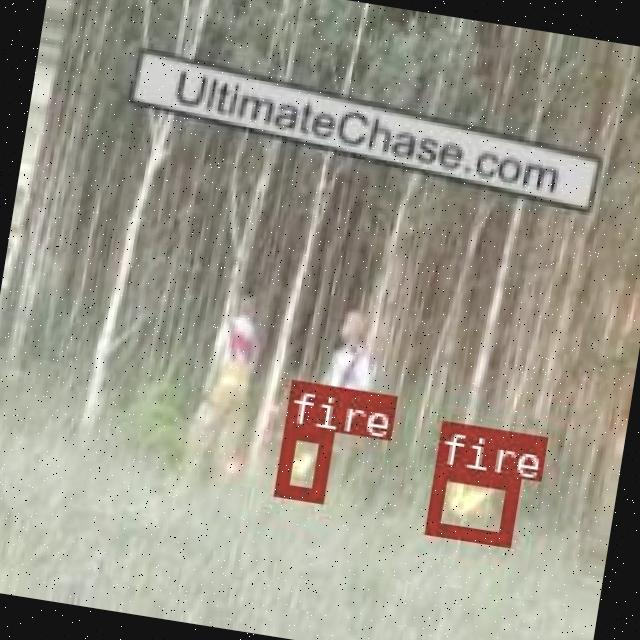fire: (424, 464, 517, 543), (272, 422, 331, 500)
